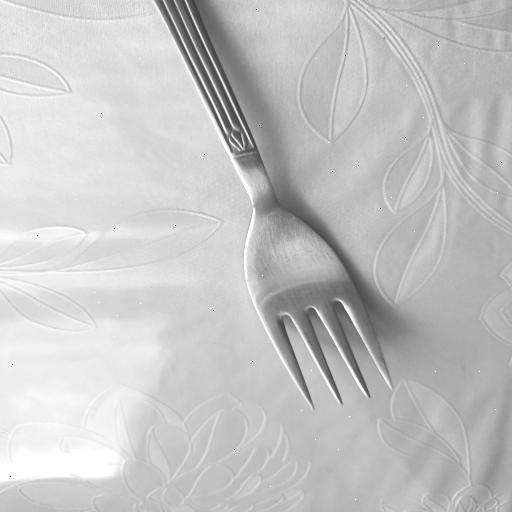fork: (148, 0, 398, 413)
